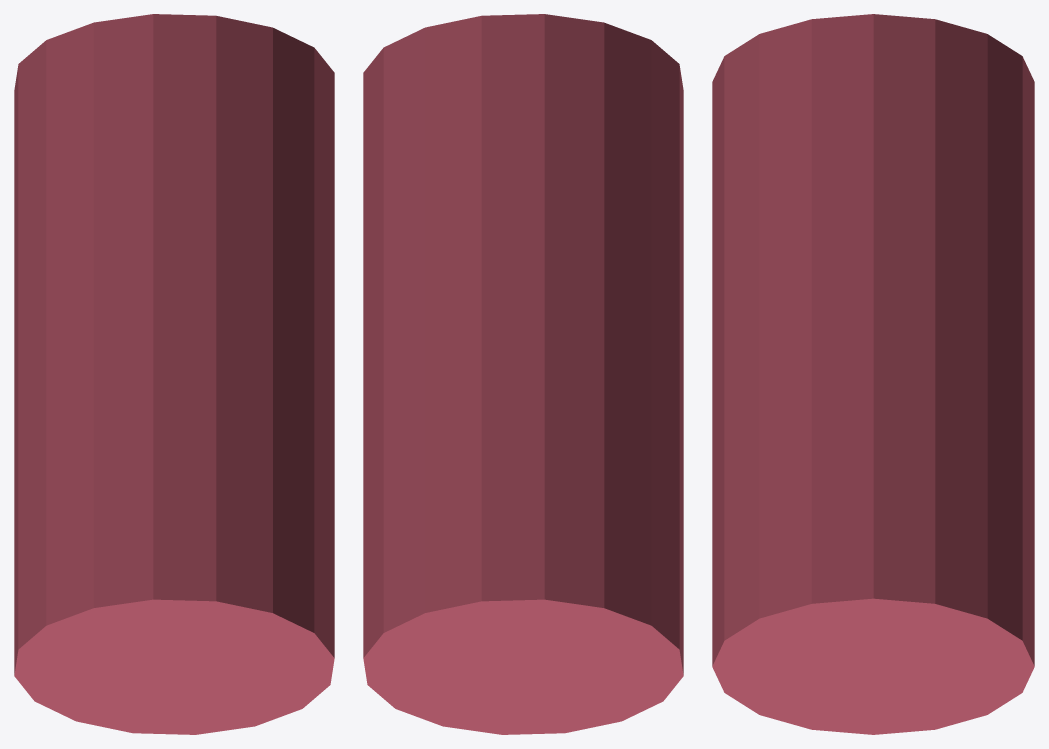
File: wine.glb
3 renders of one model, left to right at view 1: azimuth 30°, elevation 25°; view 2: azimuth 150°, elevation 25°; view 3: azimuth 270°, elevation 25°, orthographic.
Visible parts, largest first — view 1: Wine; view 2: Wine; view 3: Wine.
Boxes of the visible parts, x1,y1,x2,y2 form: Wine: (14,14,334,734); Wine: (363,14,683,734); Wine: (712,14,1034,734).
Bounding box in the file's own units: 0.6 × 1.2 × 0.6.
